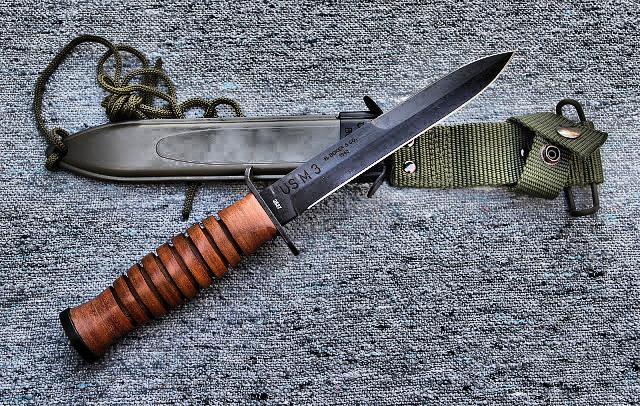knife: (256, 42, 518, 225)
